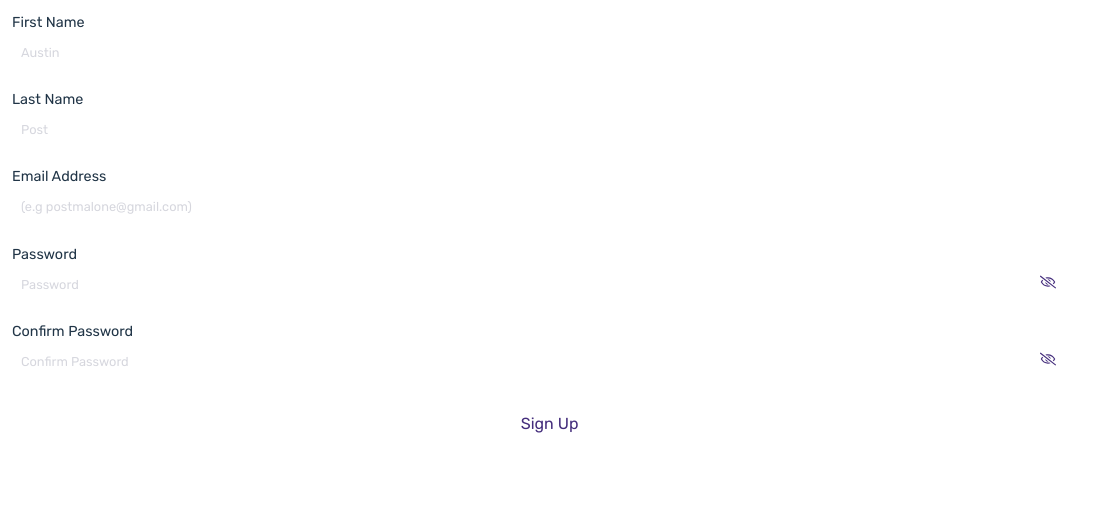
SignUpForm — input validation › shows email pattern error for invalid email
The image size is (1104, 522).
Type "Alice" into the field with placeholder "Austin" at (533, 53), box [12, 34, 1054, 71]
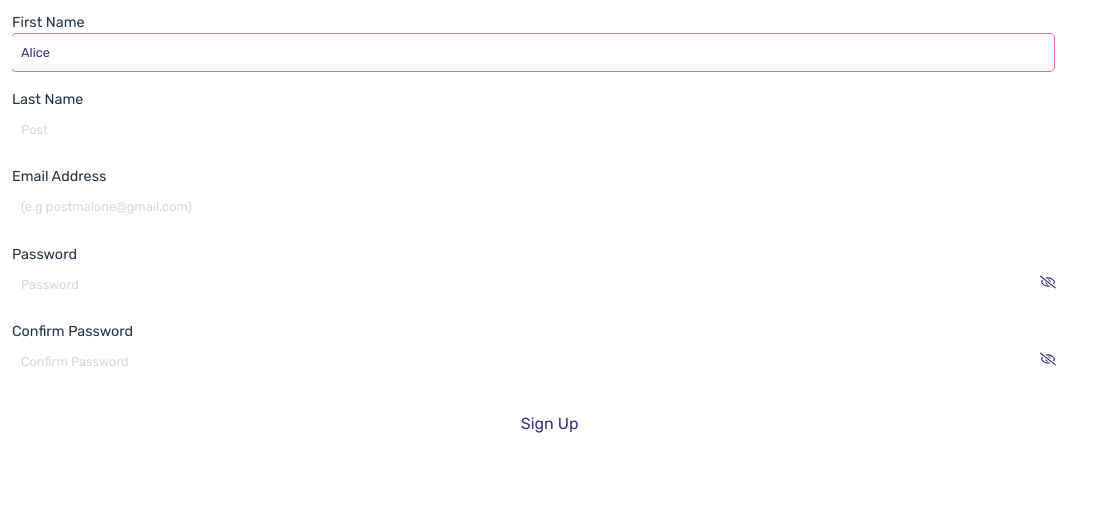
Type "Smith" into the field with placeholder "Post" at (533, 130), box [12, 111, 1054, 148]
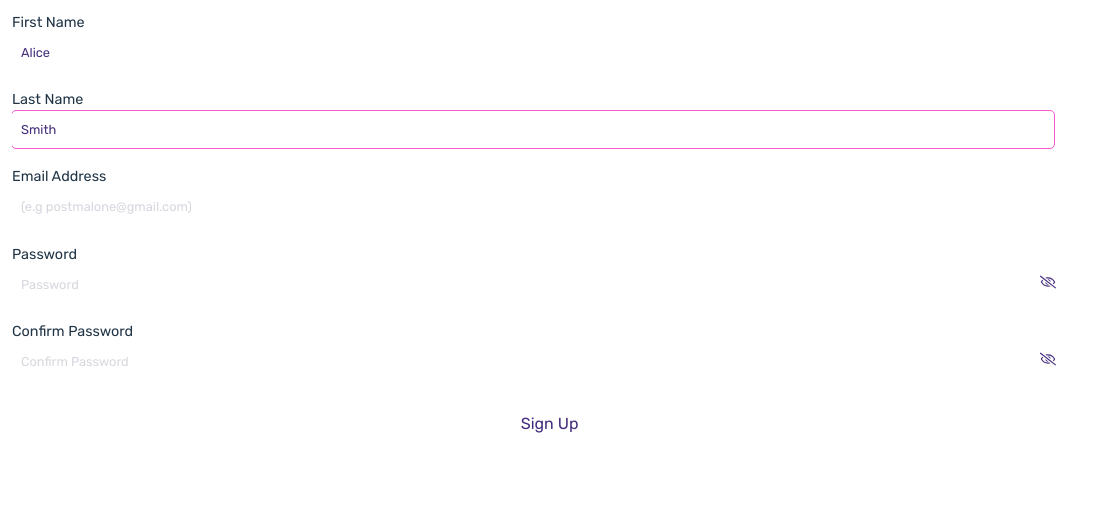
Type "notanemail" into the field with placeholder "(e.g postmalone@gmail.com)" at (533, 207), box [12, 188, 1054, 226]
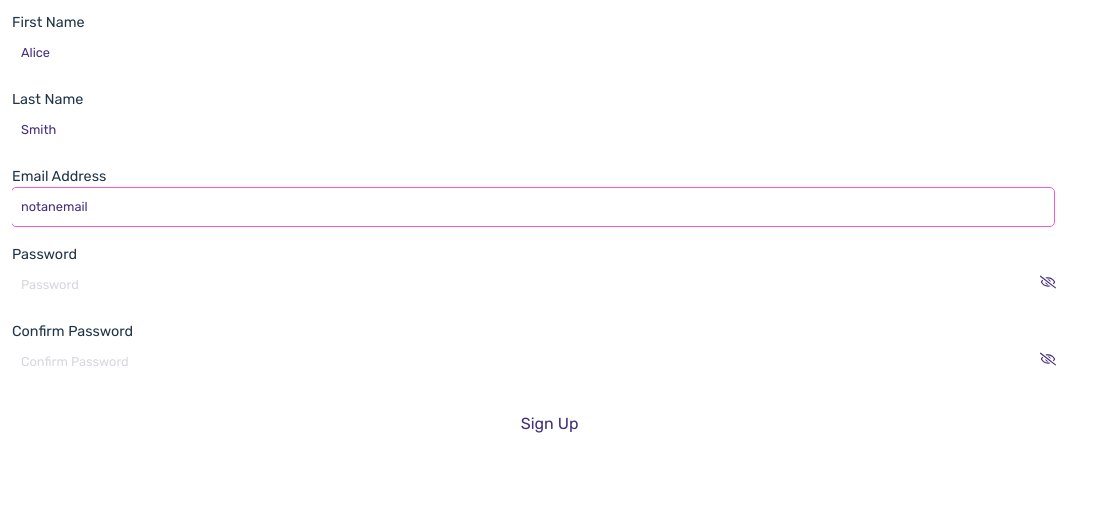
Click the button "Sign Up" at (550, 424), box [12, 404, 1087, 444]
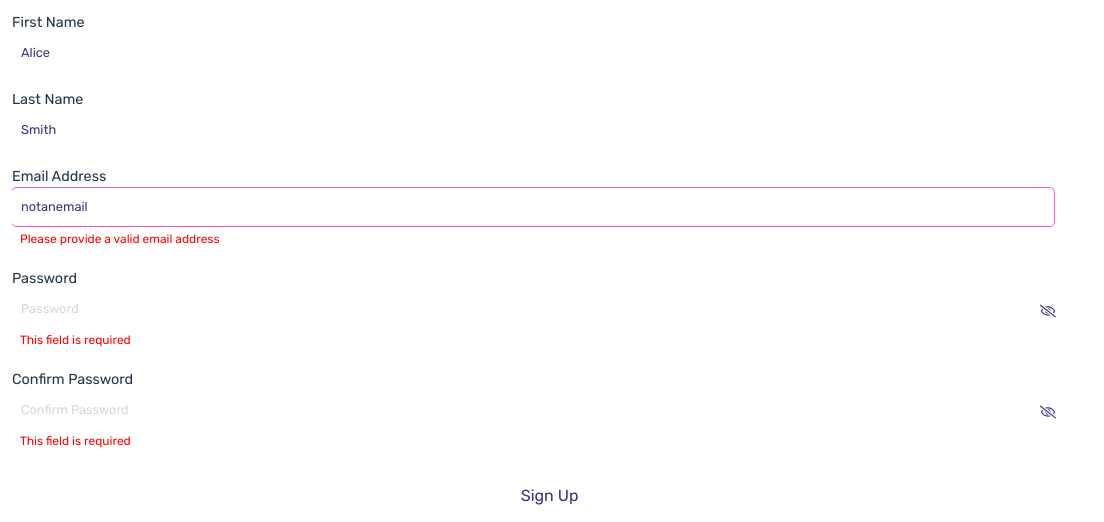
Expected: the text "Please provide a valid email address" is shown, [12, 232, 220, 246]
